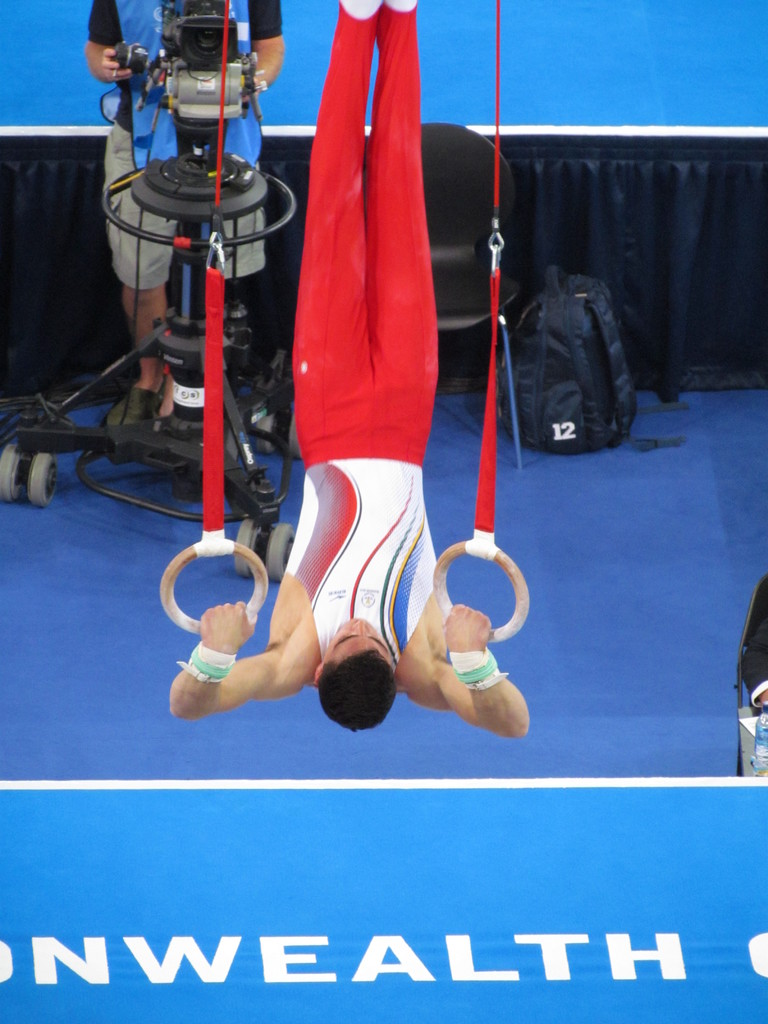Person: (169, 0, 529, 737), (85, 0, 285, 427), (739, 572, 768, 707)
